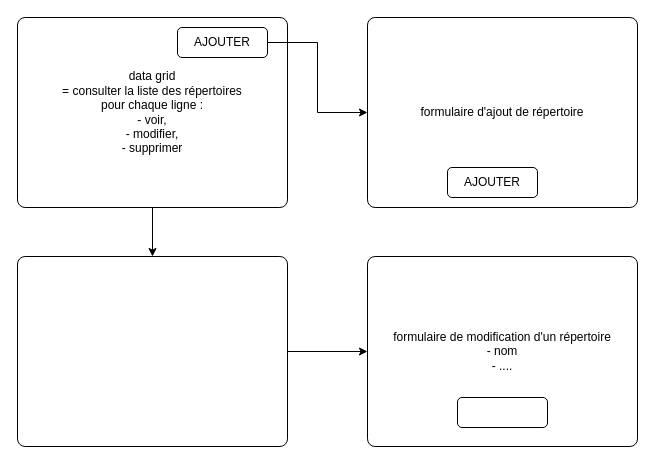
The diagram is 655 pixels wide and 464 high, and some of its shapes have lost their labels. Each missing label, with the centre of its shape:
MODIFIER: the point at 502,412
page de détail d'un répertoire: the point at 152,351
